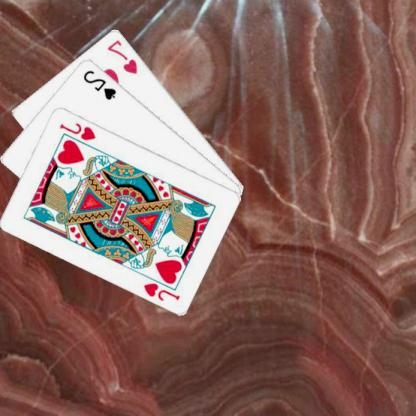2S: (82, 66, 119, 102)
7H: (106, 36, 141, 76)
JH: (142, 279, 182, 302), (58, 120, 99, 141)
